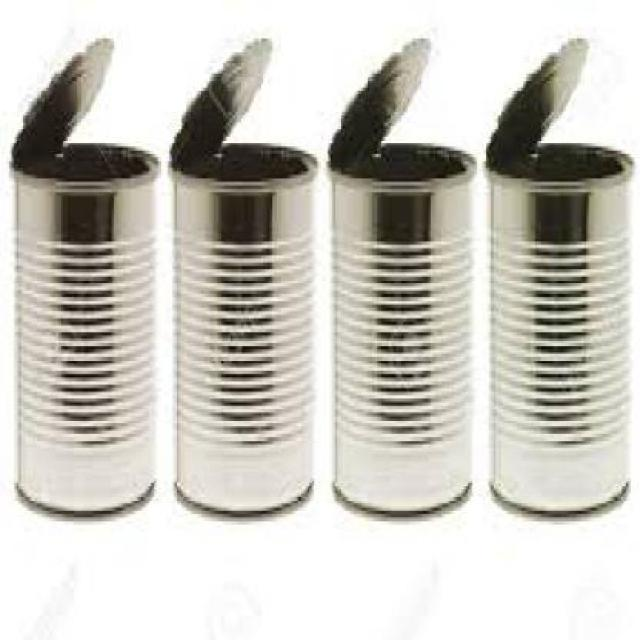METAL: (6, 32, 159, 514), (482, 31, 630, 518), (168, 32, 317, 514), (323, 32, 472, 510)
